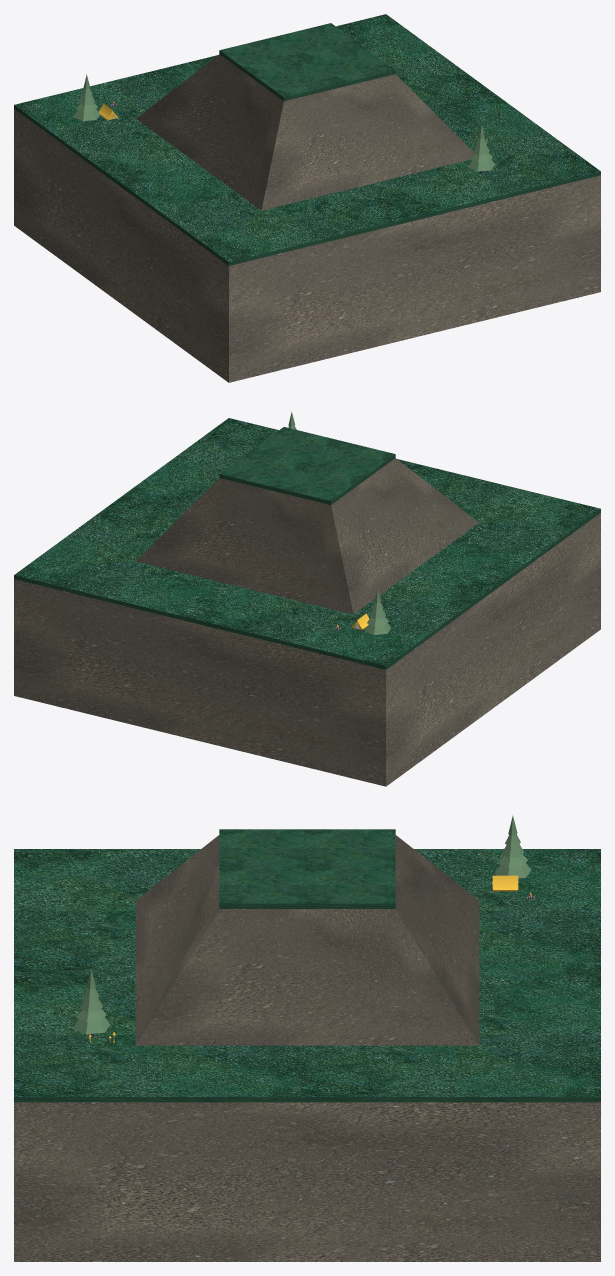
Rendered from plastics.obj.
The picture shows the model from 3 angles, top to bottom: view 1: azimuth 30°, elevation 25°; view 2: azimuth 150°, elevation 25°; view 3: azimuth 270°, elevation 25°; orthographic projection. The views are drawn at different scales.
Visible parts, largest first — view 1: 003_Box, 000_Box_3, 002_Box_1, 001_Box_2, 018_Tree, 016_Tree; view 2: 003_Box, 000_Box_3, 002_Box_1, 001_Box_2, 016_Tree; view 3: 003_Box, 000_Box_3, 002_Box_1, 001_Box_2, 018_Tree, 016_Tree.
Part boxes in pixels (x1=…): 003_Box: x1=14, y1=109, x2=600, y2=382; 000_Box_3: x1=14, y1=14, x2=600, y2=265; 002_Box_1: x1=136, y1=54, x2=473, y2=210; 001_Box_2: x1=219, y1=23, x2=395, y2=101; 018_Tree: x1=468, y1=124, x2=494, y2=171; 016_Tree: x1=73, y1=74, x2=100, y2=121; 003_Box: x1=14, y1=513, x2=600, y2=786; 000_Box_3: x1=14, y1=418, x2=600, y2=669; 002_Box_1: x1=136, y1=458, x2=478, y2=614; 001_Box_2: x1=219, y1=427, x2=395, y2=504; 016_Tree: x1=364, y1=588, x2=390, y2=634; 003_Box: x1=14, y1=1102, x2=600, y2=1261; 000_Box_3: x1=14, y1=849, x2=600, y2=1102; 002_Box_1: x1=135, y1=835, x2=479, y2=1045; 001_Box_2: x1=219, y1=829, x2=395, y2=908; 018_Tree: x1=72, y1=969, x2=110, y2=1034; 016_Tree: x1=494, y1=815, x2=530, y2=878.
Bounding box in the file's own units: 100 × 51 × 100.
Materials: 21 (4 with a texture image).
